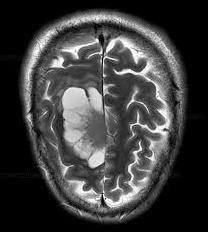Tumour-Meningioma: (51, 68, 124, 182)
